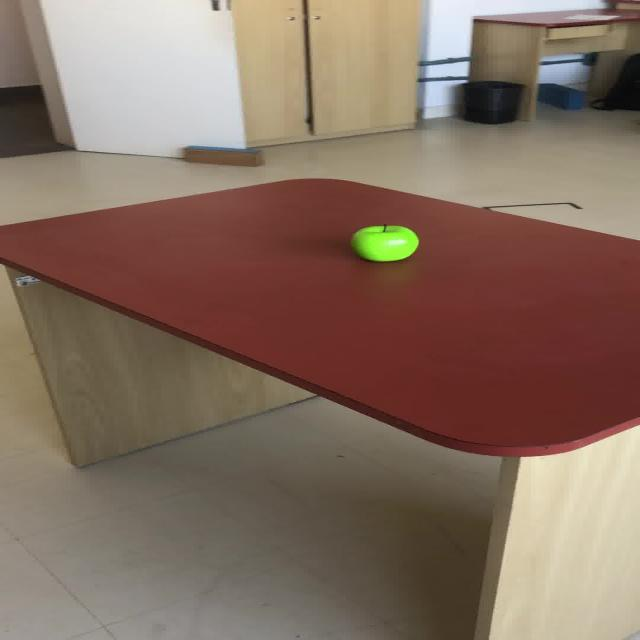apple: (349, 224, 419, 262)
